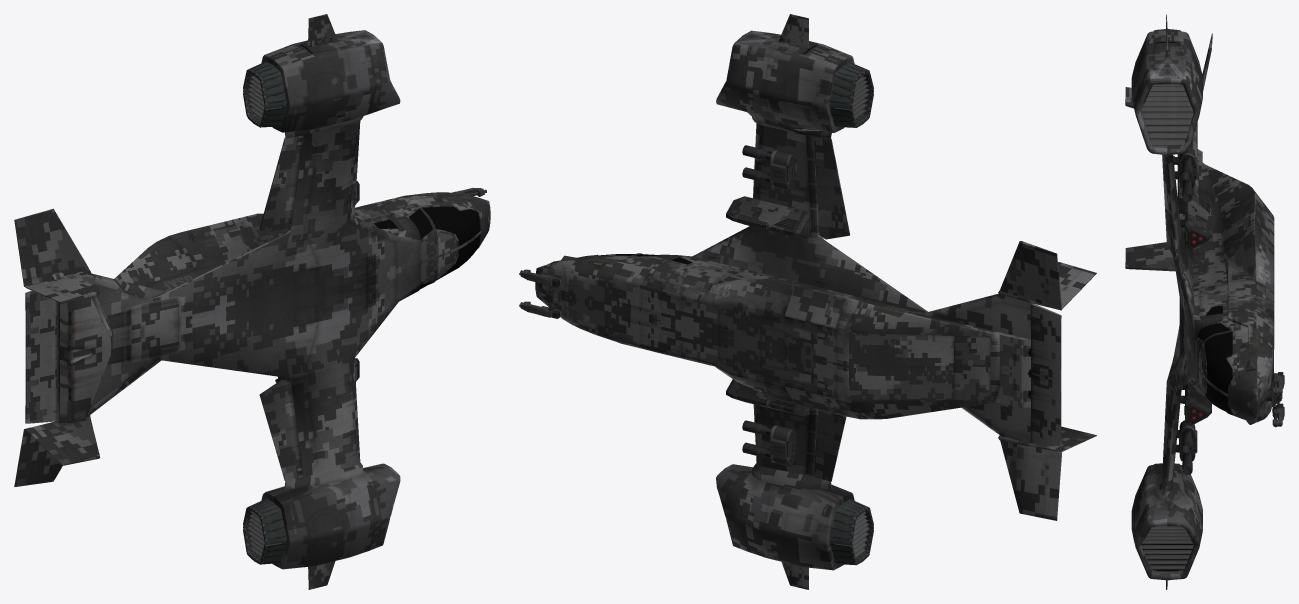
Rendered from veh_t6_air_v78_vtol_killstreak_alt_LOD0.obj.
3 renders of one model, left to right at view 1: azimuth 30°, elevation 25°; view 2: azimuth 150°, elevation 25°; view 3: azimuth 270°, elevation 25°, orthographic.
Visible parts, largest first — view 1: mtl_veh_t6_v78_vtol_enemy, mtl_veh_t6_air_fa38_glass_opaque, mtl_veh_t6_v78_vtol_interior; view 2: mtl_veh_t6_v78_vtol_enemy, mtl_veh_t6_v78_vtol_guns_enemy, mtl_veh_t6_v78_vtol_interior; view 3: mtl_veh_t6_v78_vtol_enemy, mtl_veh_t6_v78_vtol_guns_enemy, mtl_veh_t6_v78_vtol_interior, mtl_veh_t6_air_fa38_glass_opaque.
Boxes of the visible parts, left/top/right/bottom form: mtl_veh_t6_v78_vtol_enemy: left=14, top=14, right=490, bottom=589; mtl_veh_t6_air_fa38_glass_opaque: left=374, top=207, right=480, bottom=289; mtl_veh_t6_v78_vtol_interior: left=247, top=74, right=457, bottom=557; mtl_veh_t6_v78_vtol_enemy: left=535, top=14, right=1096, bottom=589; mtl_veh_t6_v78_vtol_guns_enemy: left=519, top=145, right=809, bottom=466; mtl_veh_t6_v78_vtol_interior: left=737, top=75, right=869, bottom=557; mtl_veh_t6_v78_vtol_enemy: left=1125, top=14, right=1274, bottom=589; mtl_veh_t6_v78_vtol_guns_enemy: left=1173, top=147, right=1284, bottom=475; mtl_veh_t6_v78_vtol_interior: left=1141, top=84, right=1253, bottom=569; mtl_veh_t6_air_fa38_glass_opaque: left=1197, top=305, right=1232, bottom=414.
Bounding box in the file's own units: 1954 × 2118 × 539.
